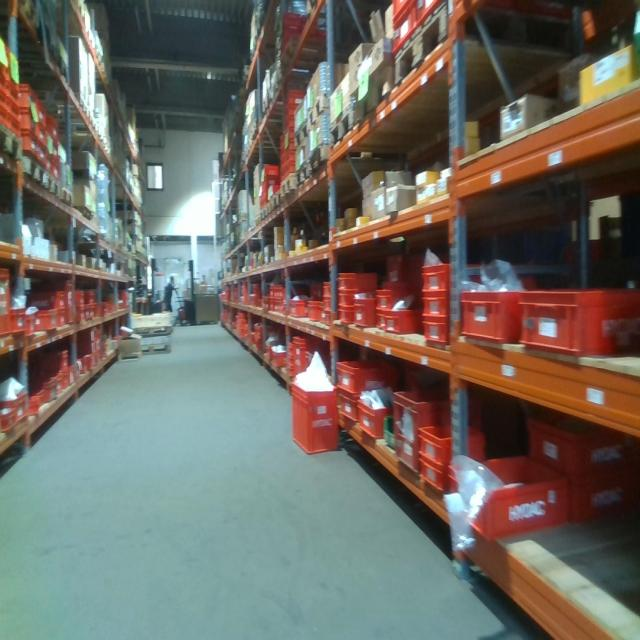pallet: (393, 1, 613, 91), (358, 63, 392, 127), (330, 98, 362, 151), (23, 57, 70, 92), (3, 155, 46, 190), (39, 96, 88, 123), (28, 168, 62, 202), (0, 124, 24, 170), (308, 91, 332, 132), (125, 342, 171, 361), (309, 141, 331, 178), (49, 185, 76, 209), (132, 324, 173, 338), (296, 158, 311, 190), (294, 114, 308, 147), (281, 172, 295, 201), (273, 187, 281, 211)
pallet_truck: (172, 253, 200, 328), (137, 251, 162, 313)
small_load_carrier: (449, 444, 572, 541), (518, 279, 638, 361), (393, 379, 485, 472), (525, 412, 633, 474), (286, 379, 340, 459), (567, 476, 634, 534), (462, 281, 523, 342), (410, 416, 489, 463), (334, 351, 411, 394), (389, 254, 435, 322), (413, 456, 488, 495), (359, 393, 398, 447), (392, 1, 418, 56), (2, 382, 26, 429), (418, 259, 453, 291), (350, 291, 376, 331), (416, 1, 453, 29), (1, 263, 14, 338), (292, 335, 314, 378), (422, 317, 452, 346), (422, 291, 453, 317), (40, 346, 72, 371), (28, 290, 70, 309), (338, 384, 357, 423), (387, 314, 426, 331), (36, 305, 57, 334), (18, 86, 39, 115), (376, 287, 403, 308), (66, 280, 77, 331), (32, 377, 45, 419), (8, 49, 22, 86), (2, 403, 18, 435), (9, 304, 26, 334), (18, 134, 35, 164), (285, 295, 305, 320), (269, 346, 286, 370), (25, 309, 39, 338), (49, 115, 62, 145), (371, 313, 387, 336), (336, 292, 357, 309), (285, 94, 308, 109), (19, 115, 39, 132), (48, 372, 57, 408), (338, 278, 357, 294), (1, 38, 9, 76), (336, 308, 351, 328), (306, 301, 319, 324), (321, 279, 335, 300), (261, 162, 277, 179), (56, 309, 68, 330), (60, 369, 70, 393), (77, 307, 86, 331), (283, 13, 300, 25), (86, 303, 96, 321), (56, 366, 62, 395), (76, 290, 86, 307), (322, 300, 335, 313), (284, 105, 297, 118), (285, 117, 297, 131), (322, 313, 333, 327), (284, 142, 296, 154), (284, 154, 296, 166), (86, 290, 96, 303), (285, 131, 296, 142), (286, 166, 295, 179), (289, 340, 296, 354), (289, 364, 297, 374), (289, 356, 296, 364)
